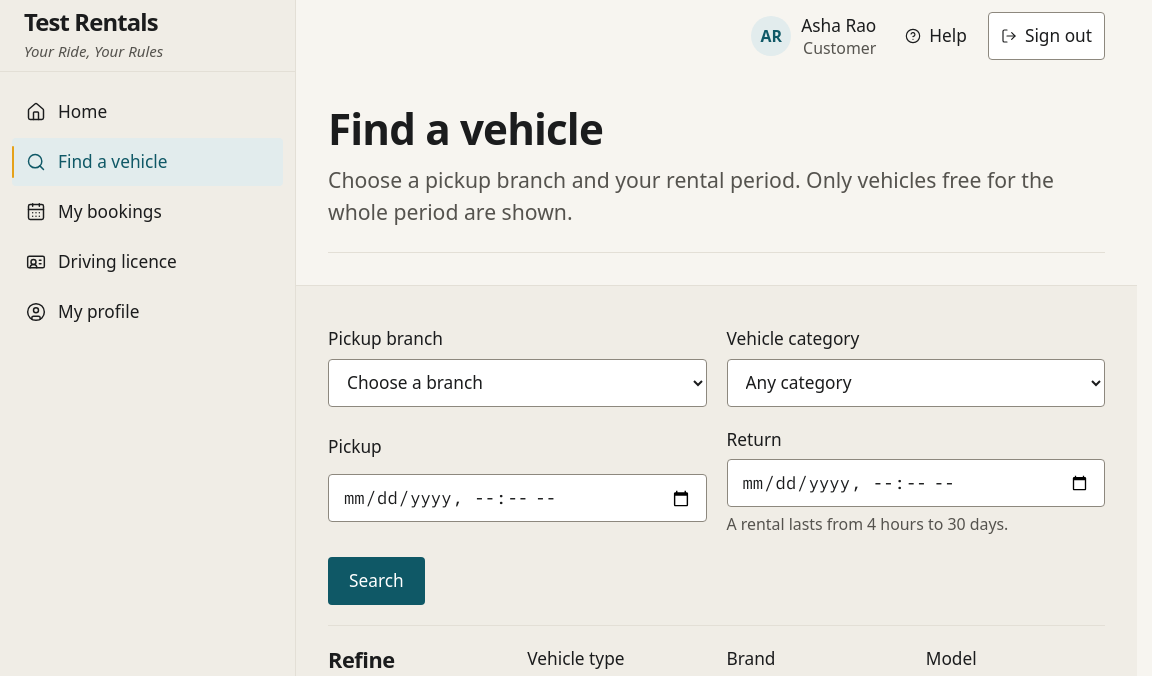
Scenario: vehicle search (Search.Available) › refuses to search when the rental is under 4 hours (BR-5)
Step 1. Select "Andheri" in the dropdown labelled "Pickup branch" → (517, 383), box [328,359,706,407]
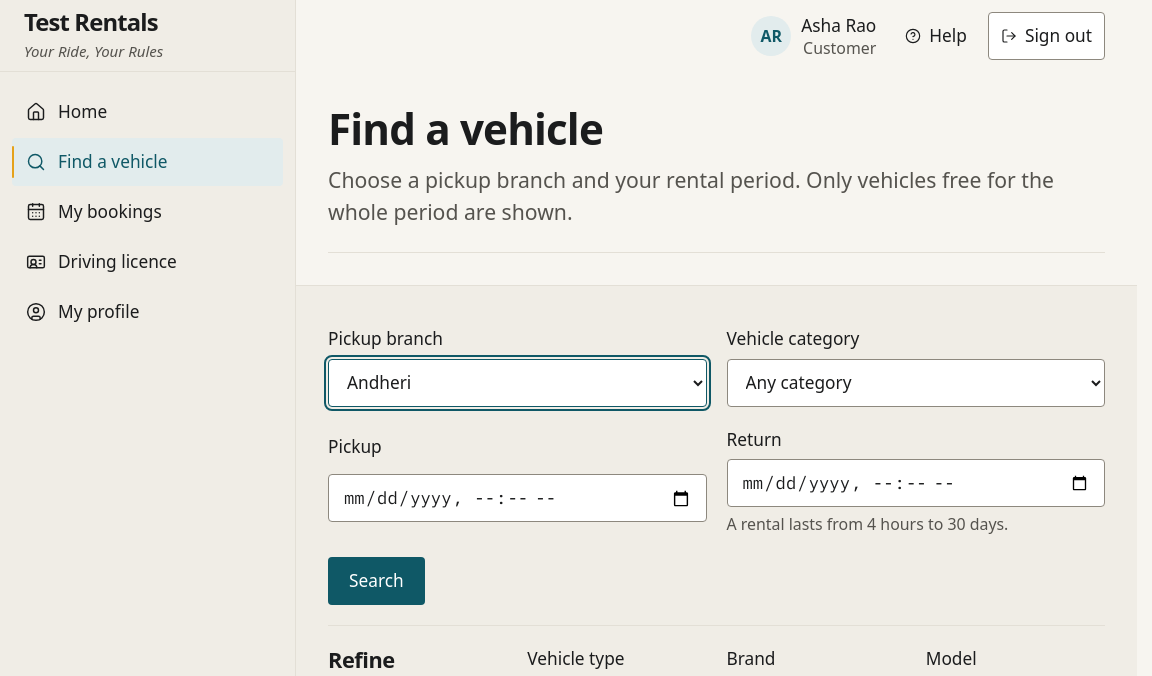
Step 2. Type "2027-01-10T10:00" into the field labelled "Pickup" → (517, 498), box [328,474,706,522]
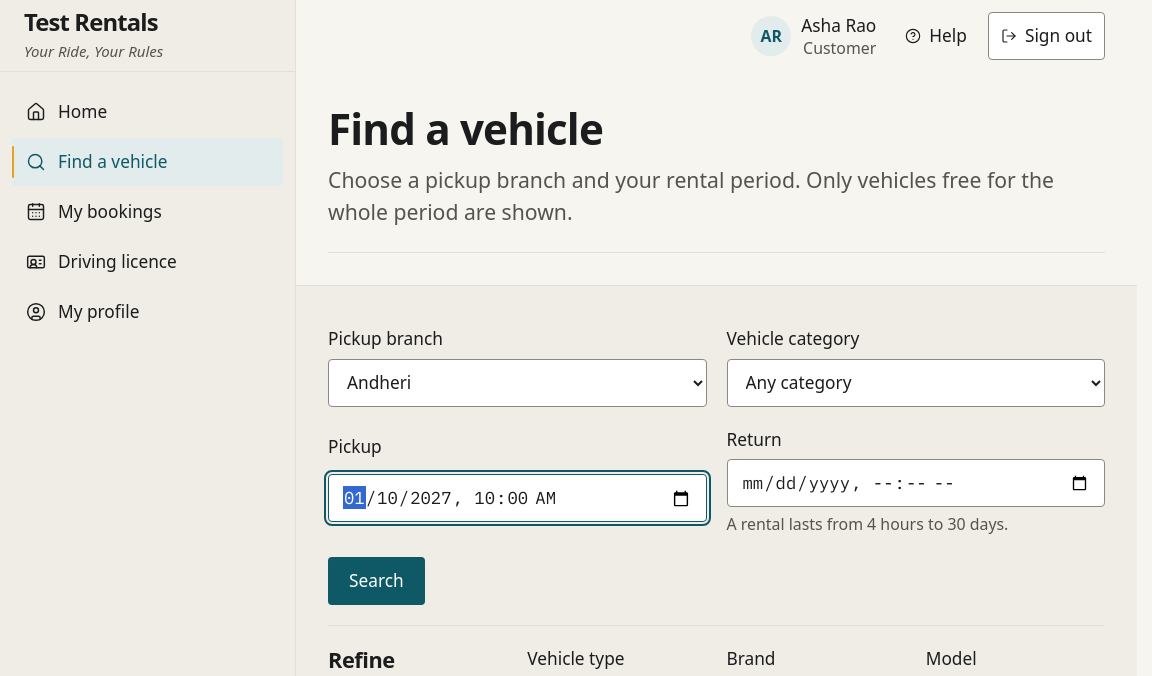
Step 3. Type "2027-01-10T13:59" into the field labelled "Return" → (916, 483), box [726,459,1105,507]
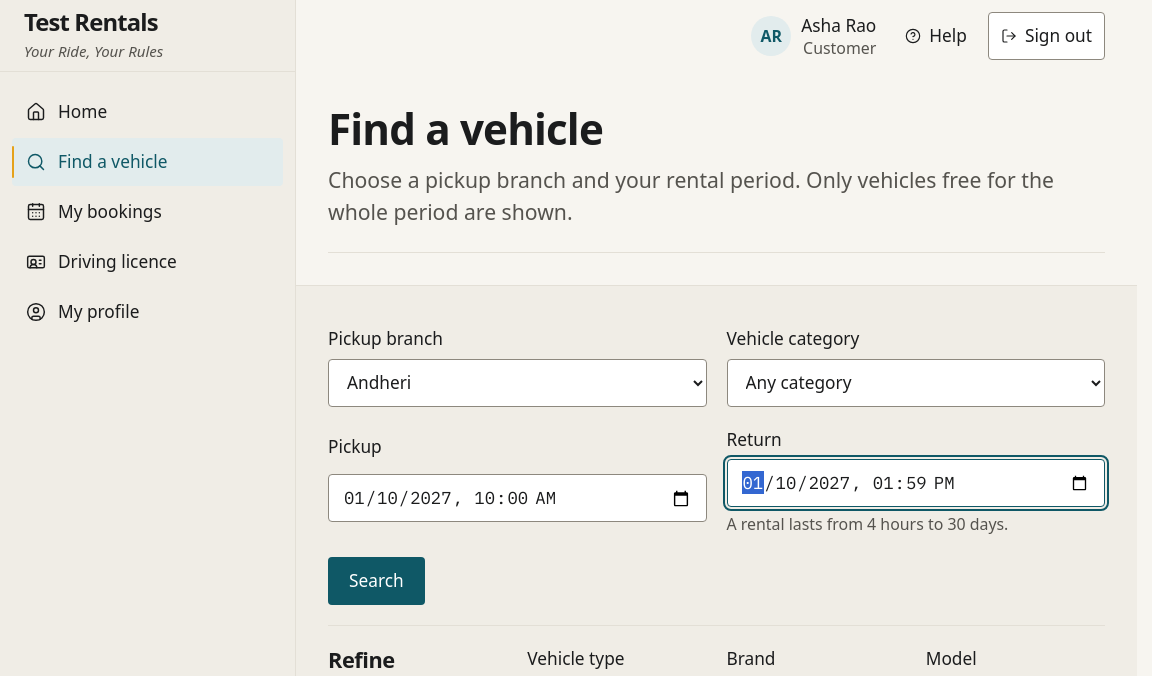
Step 4. Click the button "Search" → (376, 581), box [328,557,425,605]
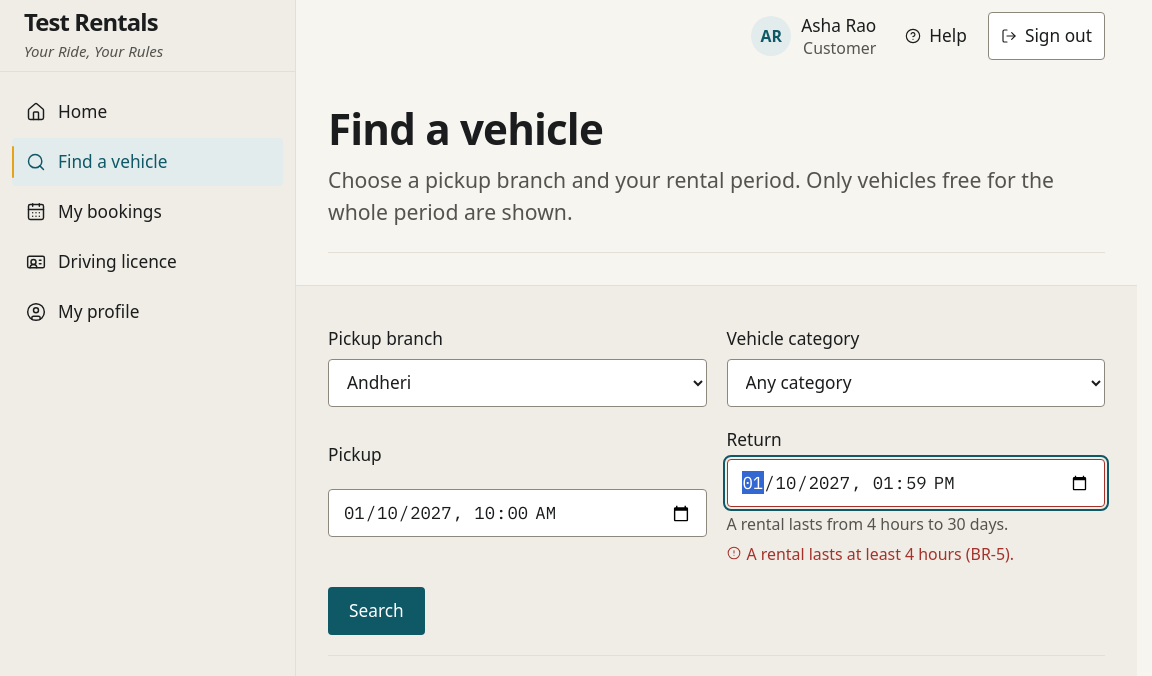
Expected: the text "A rental lasts at least 4 hours (BR-5)." is shown, [746,543,1014,567]
